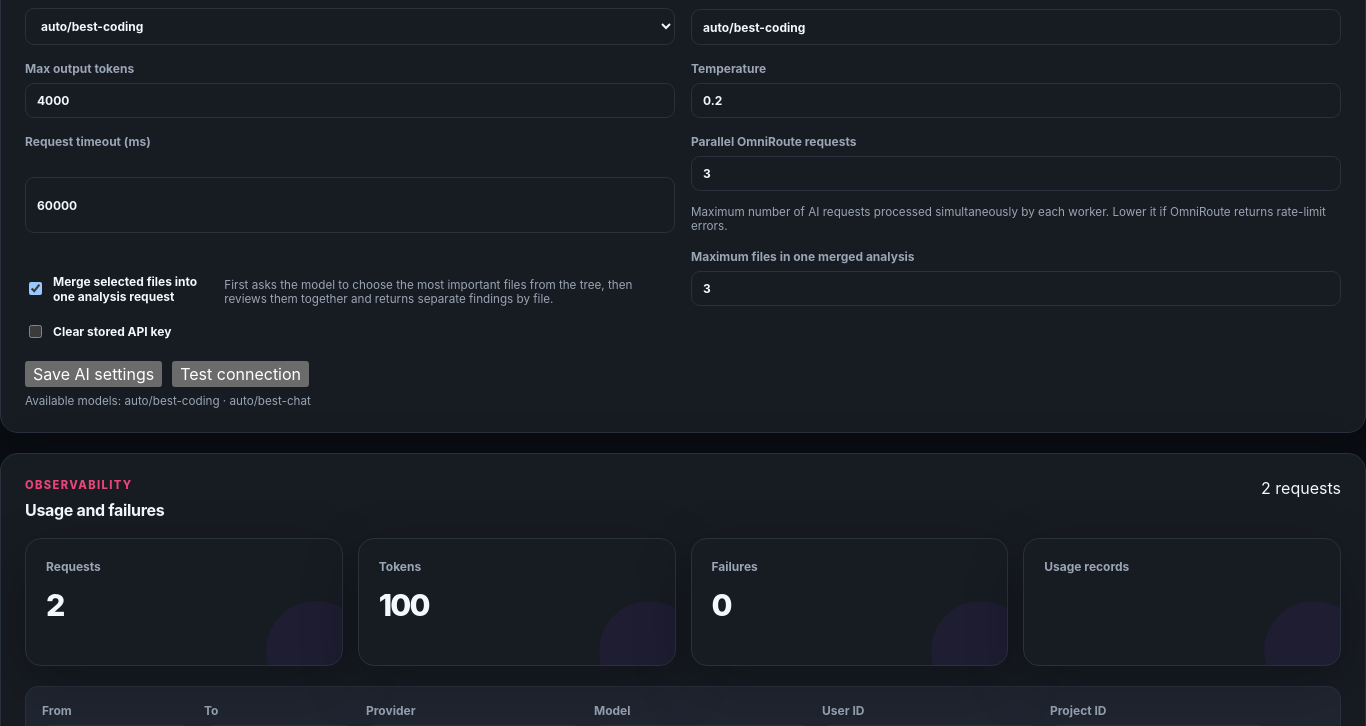
Scenario: AIPage › tests the configured OmniRoute connection from the control center
This screenshot has width=1366, height=726.
(page scrolled)
Click the button "Test connection" at (241, 374), box [172, 361, 309, 387]
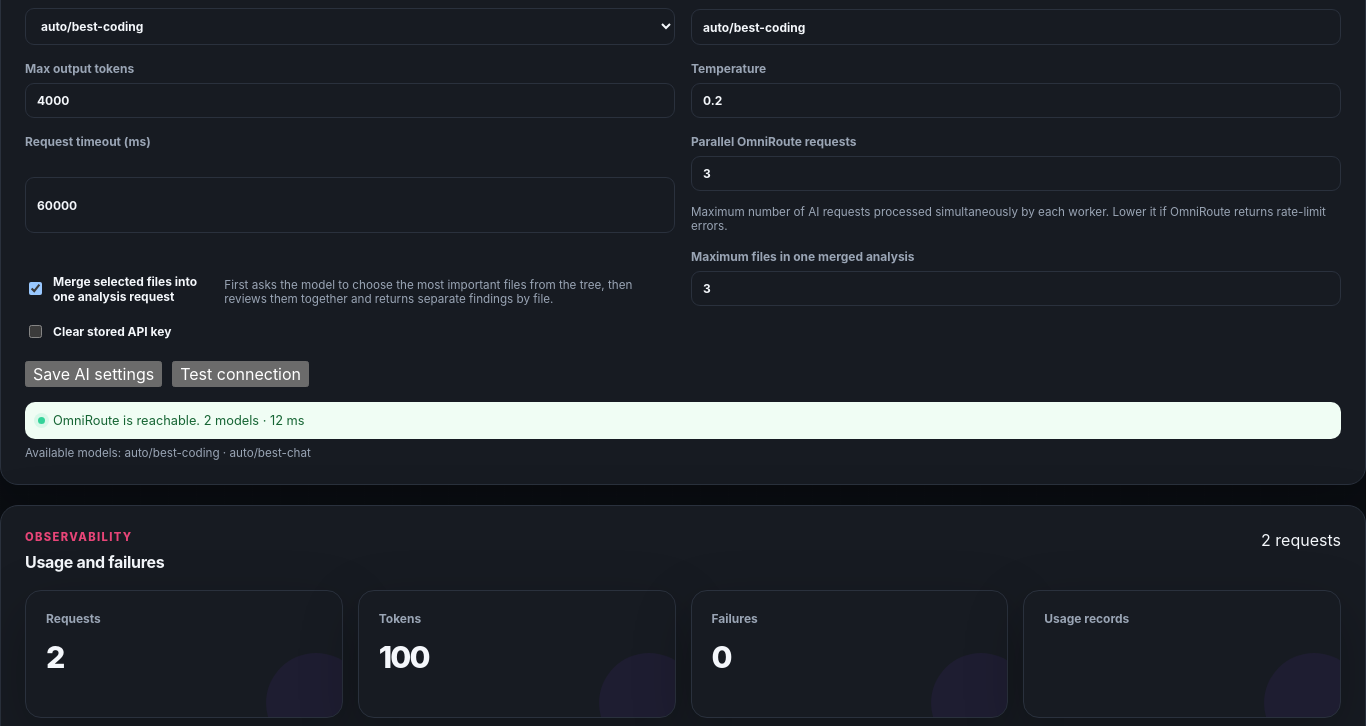
Result: the text "OmniRoute is reachable. 2 models · 12 ms" is shown at [25, 402, 1341, 439]
